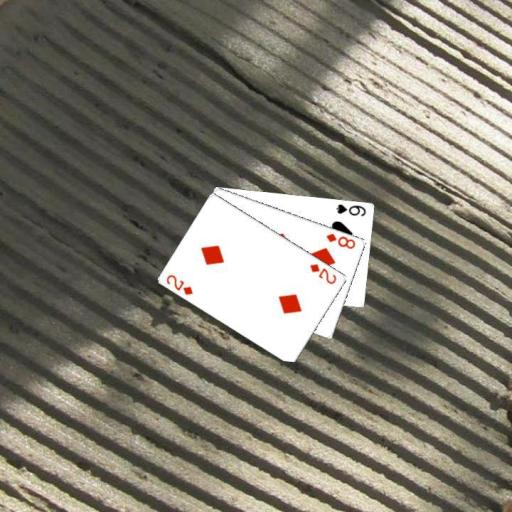2D: (307, 260, 339, 286), (163, 271, 195, 296)
6S: (333, 201, 368, 218)
8D: (323, 230, 357, 250)
